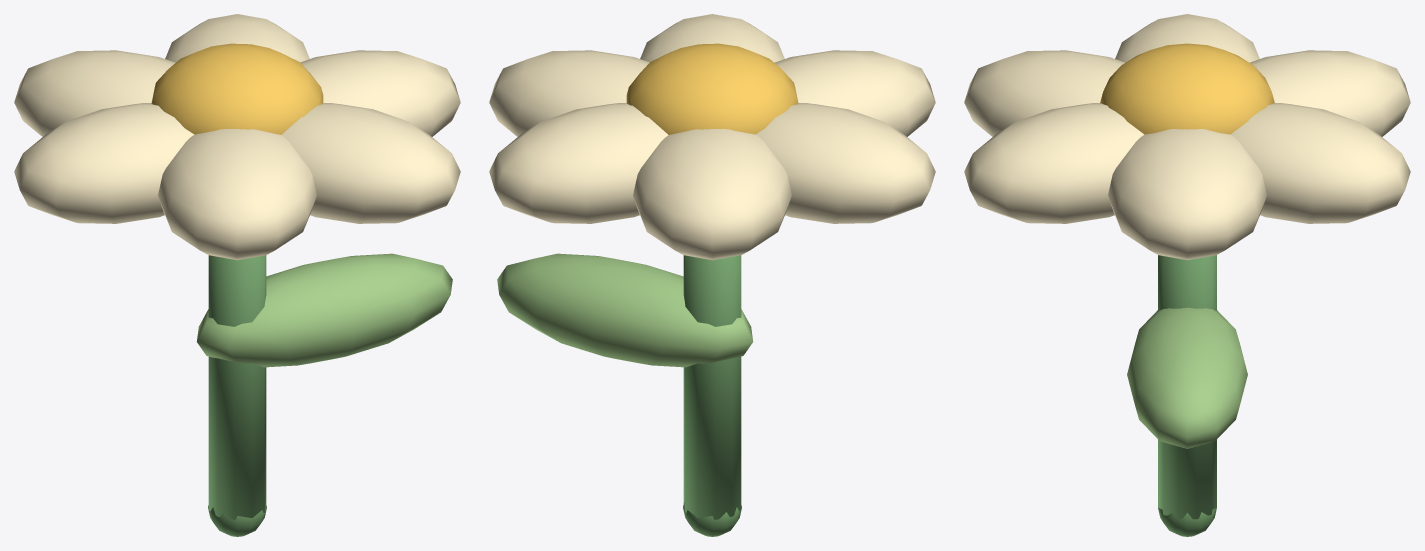
The model's file is flower.glb.
3 renders of one model, left to right at view 1: azimuth 30°, elevation 25°; view 2: azimuth 150°, elevation 25°; view 3: azimuth 270°, elevation 25°, orthographic.
Parts seen in each view (by area): view 1: flower; view 2: flower; view 3: flower.
Part boxes in pixels (left/top/right/bottom): flower: left=14, top=14, right=460, bottom=536; flower: left=489, top=14, right=935, bottom=536; flower: left=964, top=14, right=1410, bottom=536.
Bounding box in the file's own units: 0.374 × 0.393 × 0.3323.
